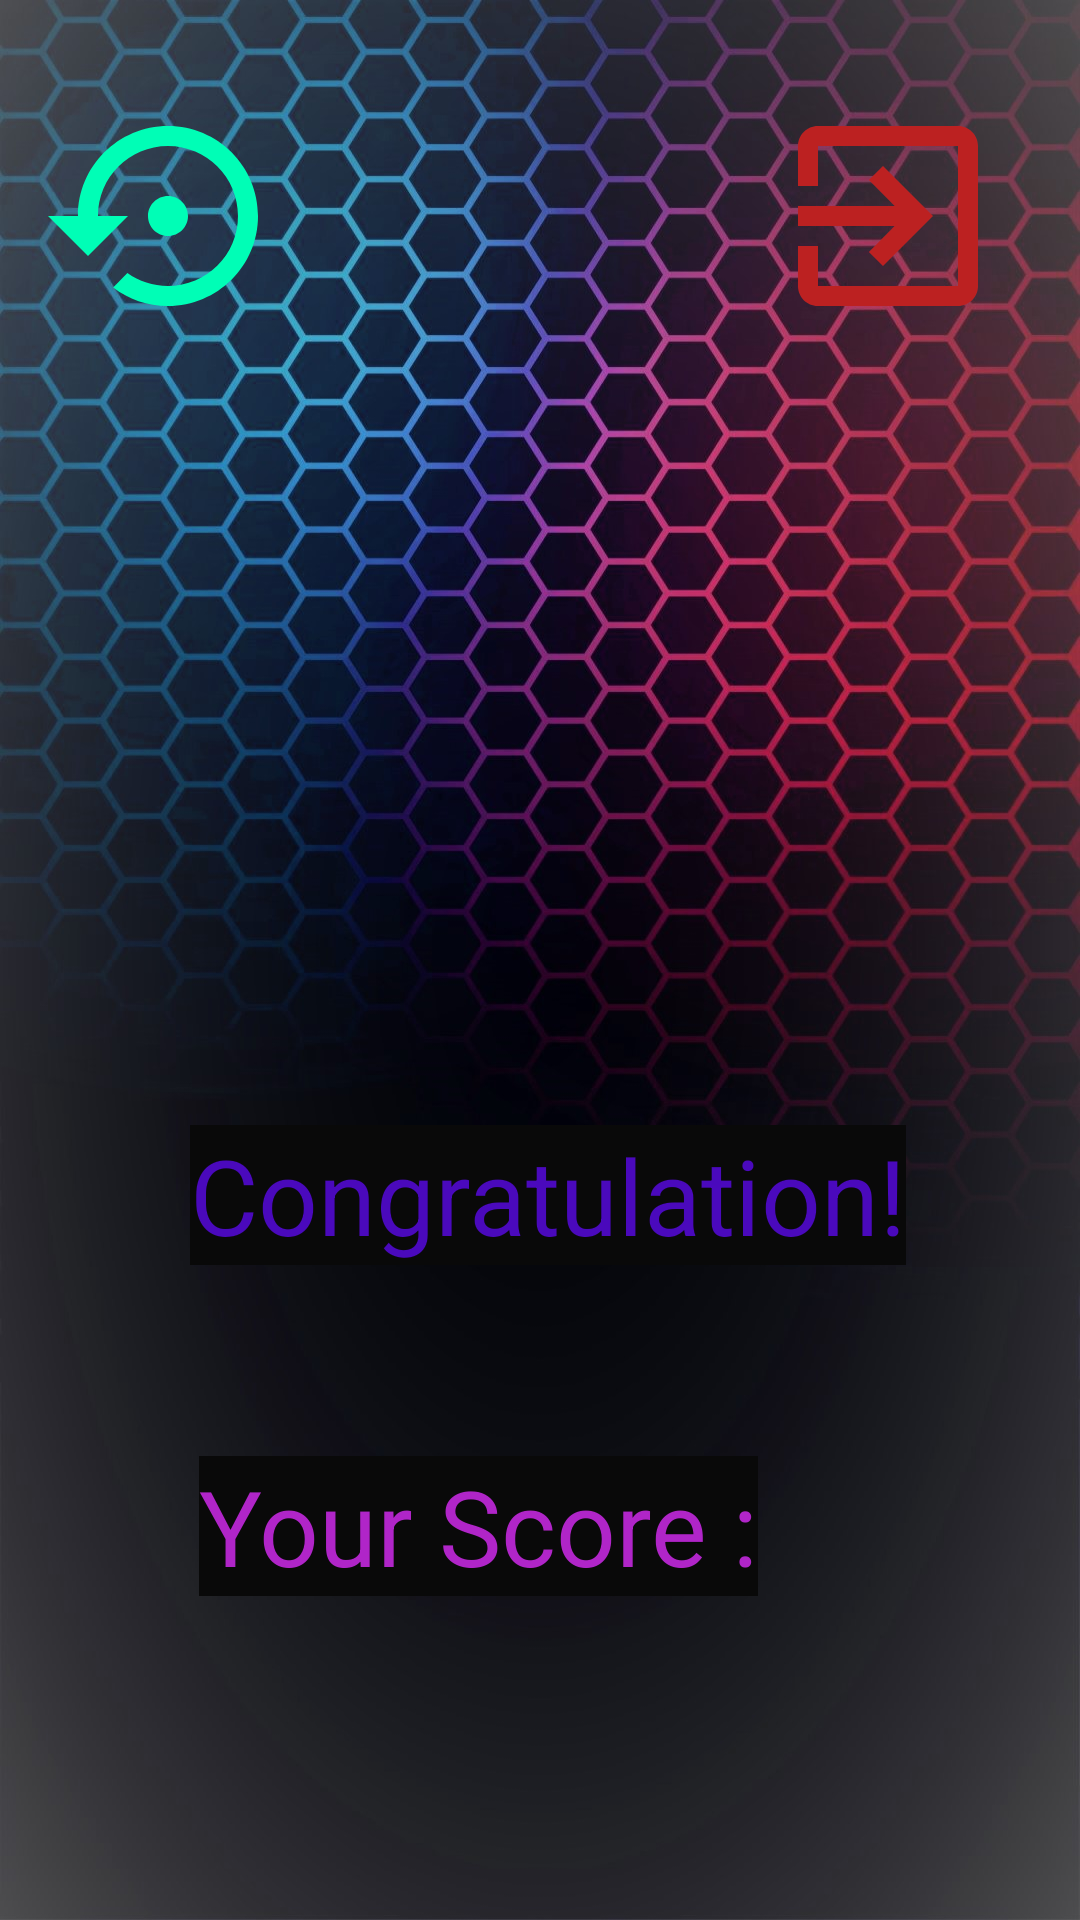

Point at icon controls on the screen. Image size 1080px×1920px, points as (x,y).
exit: (888,216)
restart: (168,216)
